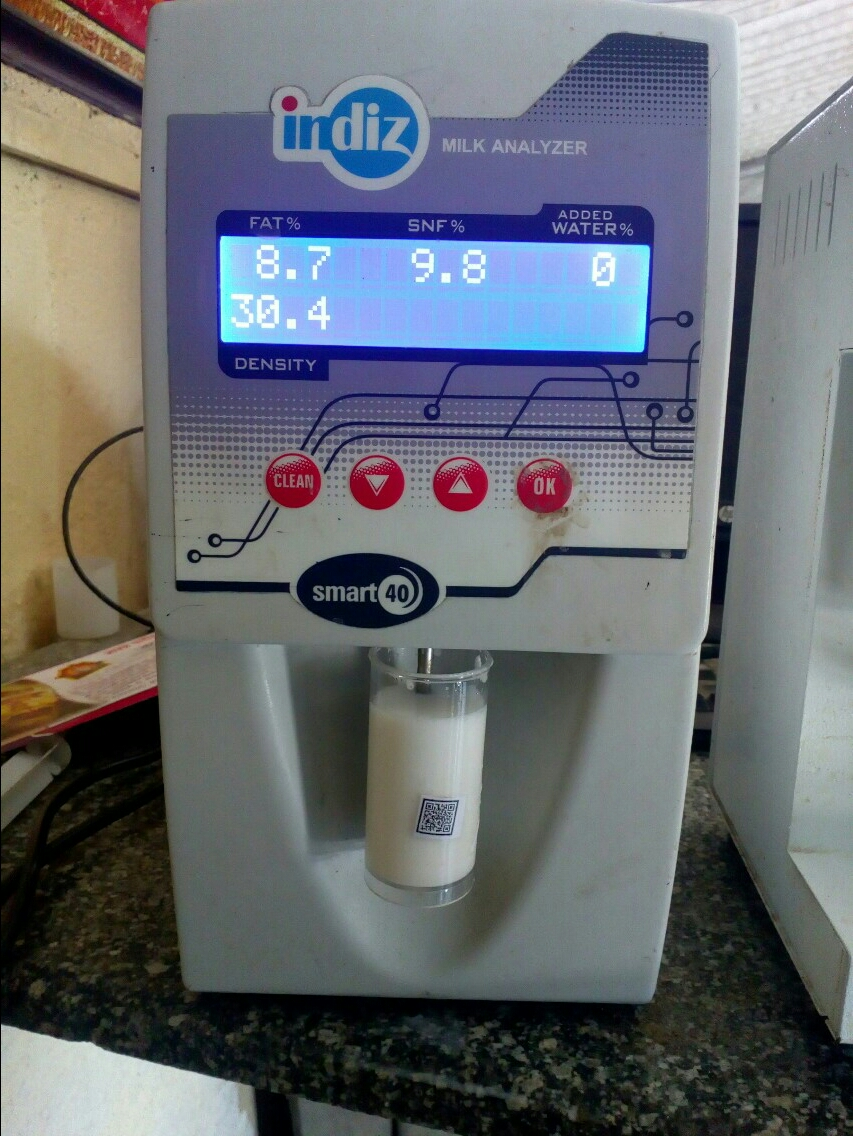lcd: (210, 228, 661, 375)
qr: (408, 797, 480, 856)
